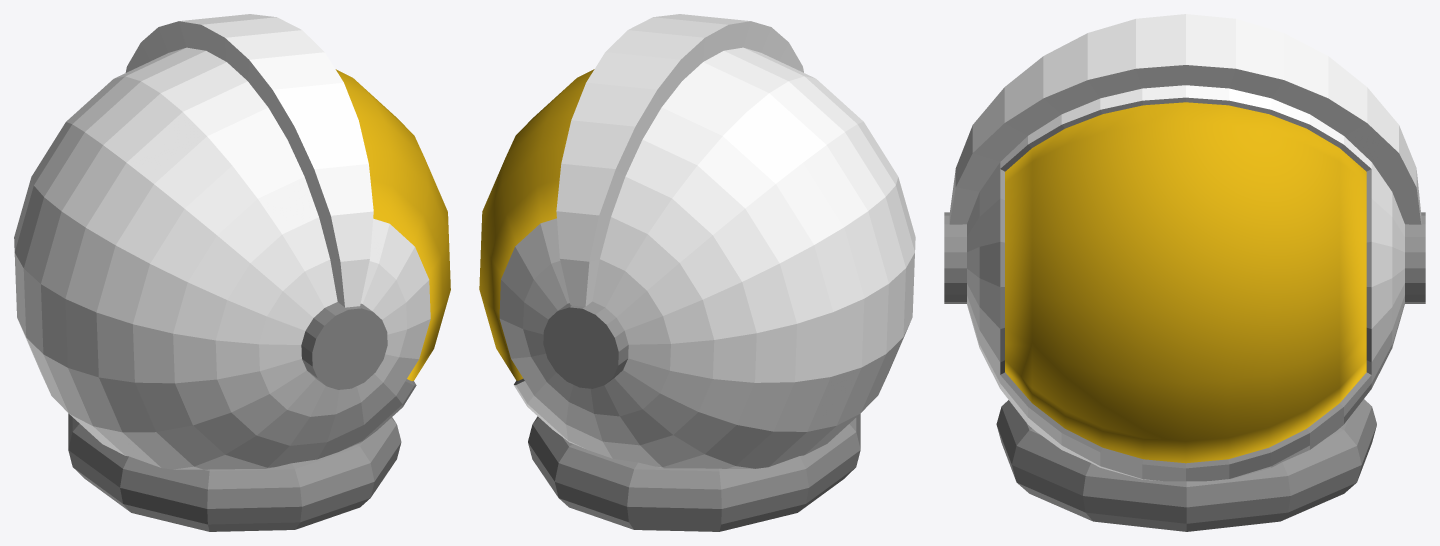
Rendered from shlem.fbx.
3 views of the same model, side by side, from view 1: azimuth 30°, elevation 25°; view 2: azimuth 150°, elevation 25°; view 3: azimuth 270°, elevation 25° (orthographic). The views are drawn at different scales.
Parts seen in each view (by area): view 1: Cube; view 2: Cube; view 3: Cube.
Boxes of the visible parts, x1=… form: Cube: x1=14, y1=14, x2=450, y2=531; Cube: x1=479, y1=14, x2=915, y2=531; Cube: x1=944, y1=14, x2=1425, y2=531.
Size of the model in its own units: 225 by 244 by 234.
